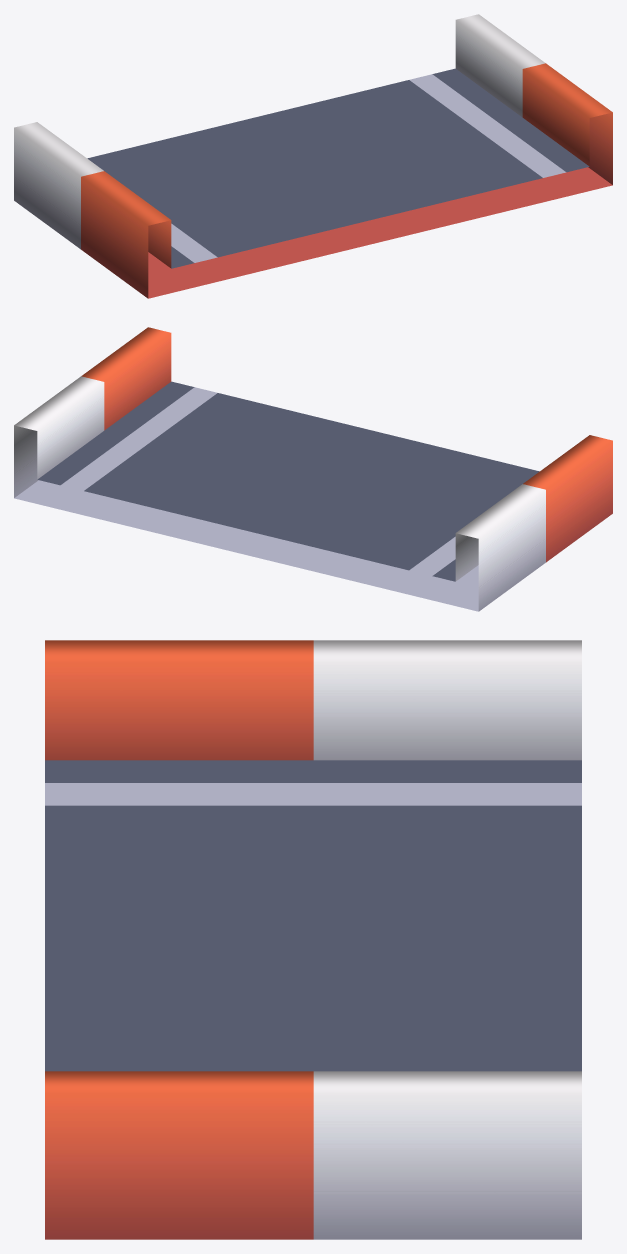
File: track-road-wide.glb
3 renders of one model, top to bottom at view 1: azimuth 30°, elevation 25°; view 2: azimuth 150°, elevation 25°; view 3: azimuth 270°, elevation 25°, orthographic. The views are drawn at different scales.
Visible parts, largest first — view 1: track-road-wide; view 2: track-road-wide; view 3: track-road-wide.
Part boxes in pixels (x1,y1,x2,y2): track-road-wide: (14,14,612,298); track-road-wide: (14,327,612,611); track-road-wide: (45,640,581,1239).
Size of the model in its own units: 2 by 0.3001 by 1.
1 material, 1 textured.
